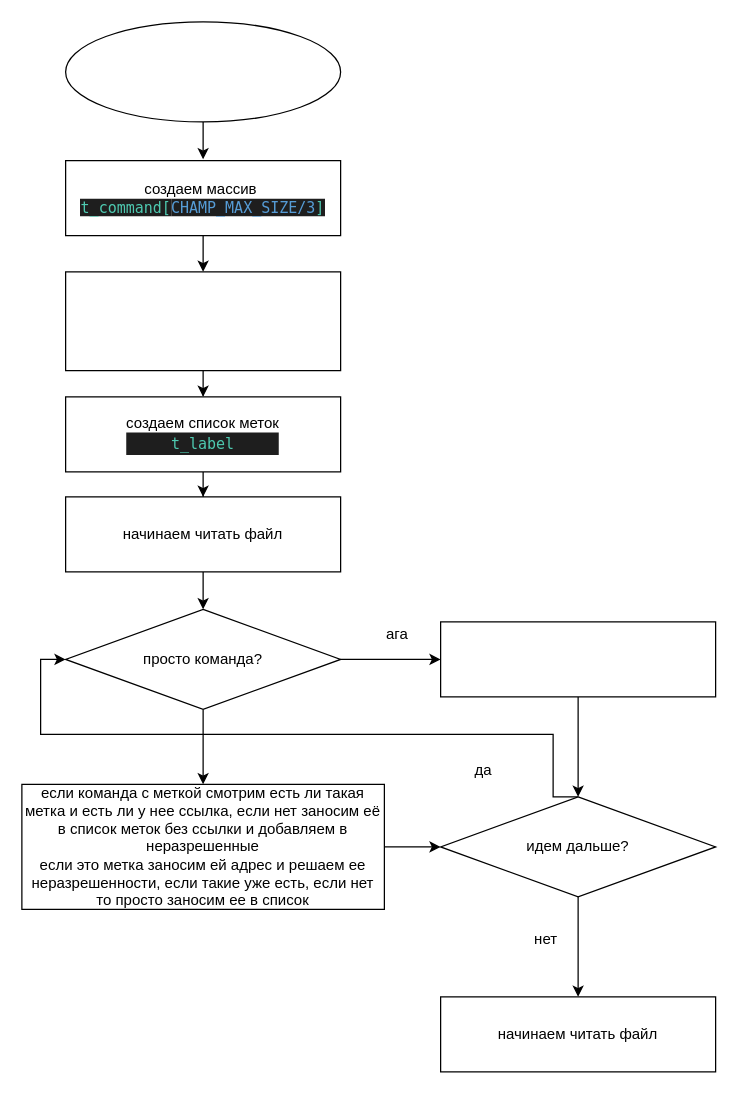
The diagram is 738 pixels wide and 1094 high, and some of its shapes have lost their labels. Each missing label, with the centre of its shape:
заносим в массив: (577,659)
создаем список неразрешенных связей команда-метка t_cmnd_label_link: (202,321)
Файл .s: (202,71)
